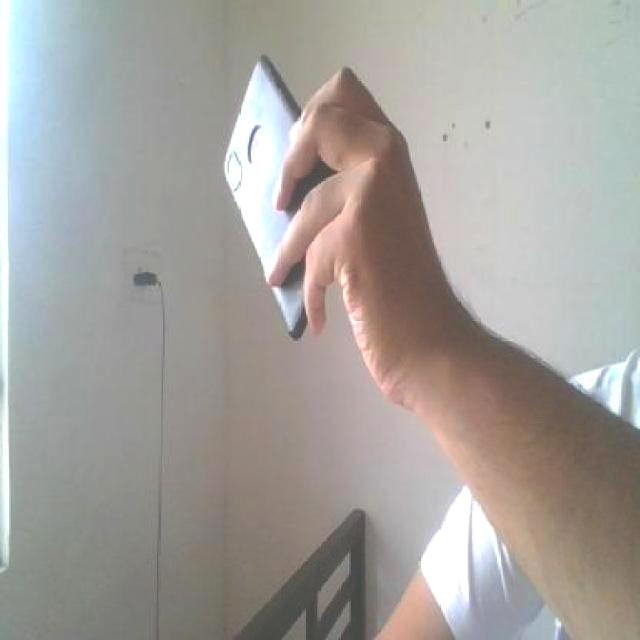phone: (218, 54, 348, 336)
